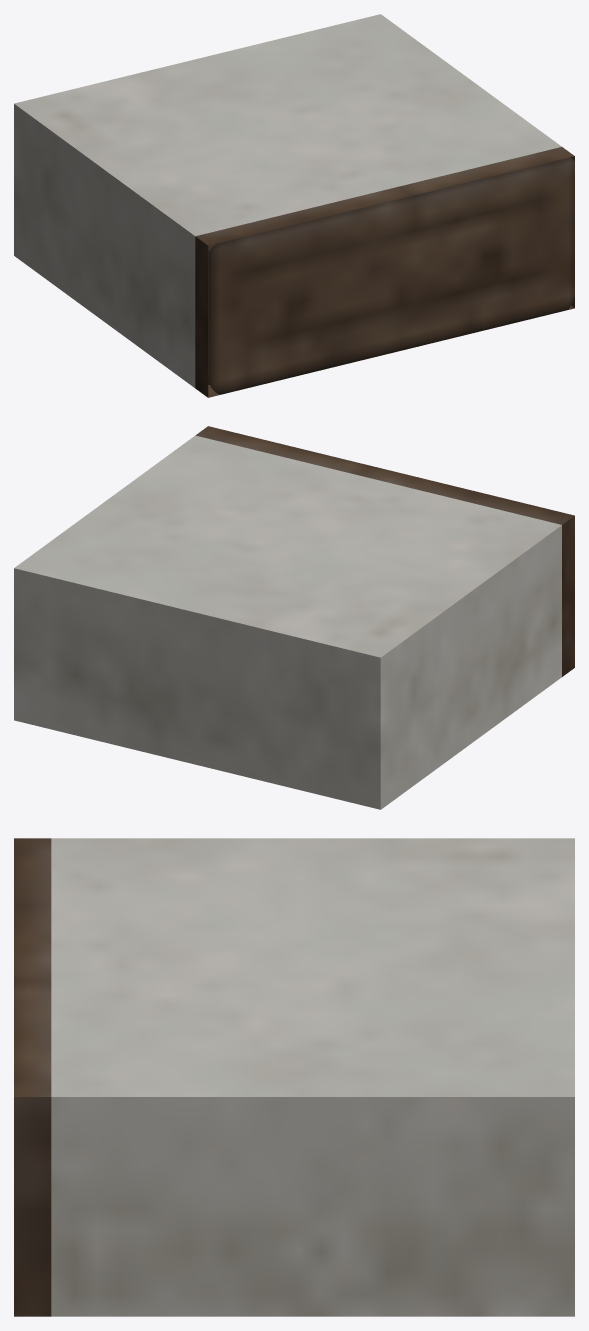
File: SM_EC_House_Kitchen_Cupboard_Static_06.fbx
3 renders of one model, top to bottom at view 1: azimuth 30°, elevation 25°; view 2: azimuth 150°, elevation 25°; view 3: azimuth 270°, elevation 25°, orthographic. The views are drawn at different scales.
Parts seen in each view (by area): view 1: SM_EC_House_Kitchen_Cupboard_Static_06; view 2: SM_EC_House_Kitchen_Cupboard_Static_06; view 3: SM_EC_House_Kitchen_Cupboard_Static_06.
Boxes of the visible parts, bbox=[...] form: SM_EC_House_Kitchen_Cupboard_Static_06: bbox=[14, 14, 574, 397]; SM_EC_House_Kitchen_Cupboard_Static_06: bbox=[14, 426, 574, 809]; SM_EC_House_Kitchen_Cupboard_Static_06: bbox=[14, 838, 574, 1316].
Size of the model in its own units: 0.8231 by 0.7546 by 0.3263.
